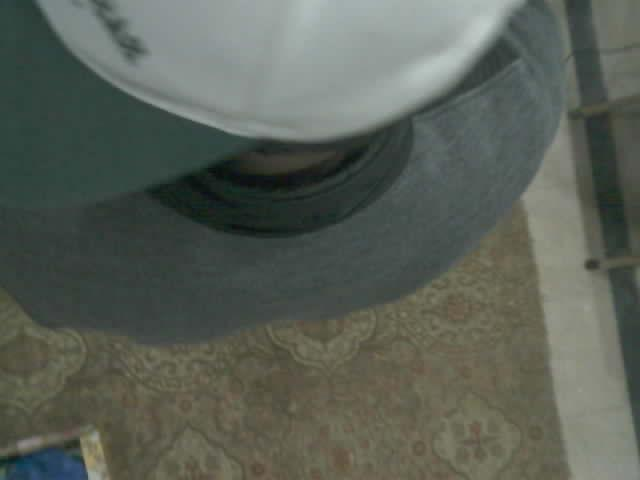cap: (0, 0, 523, 207)
